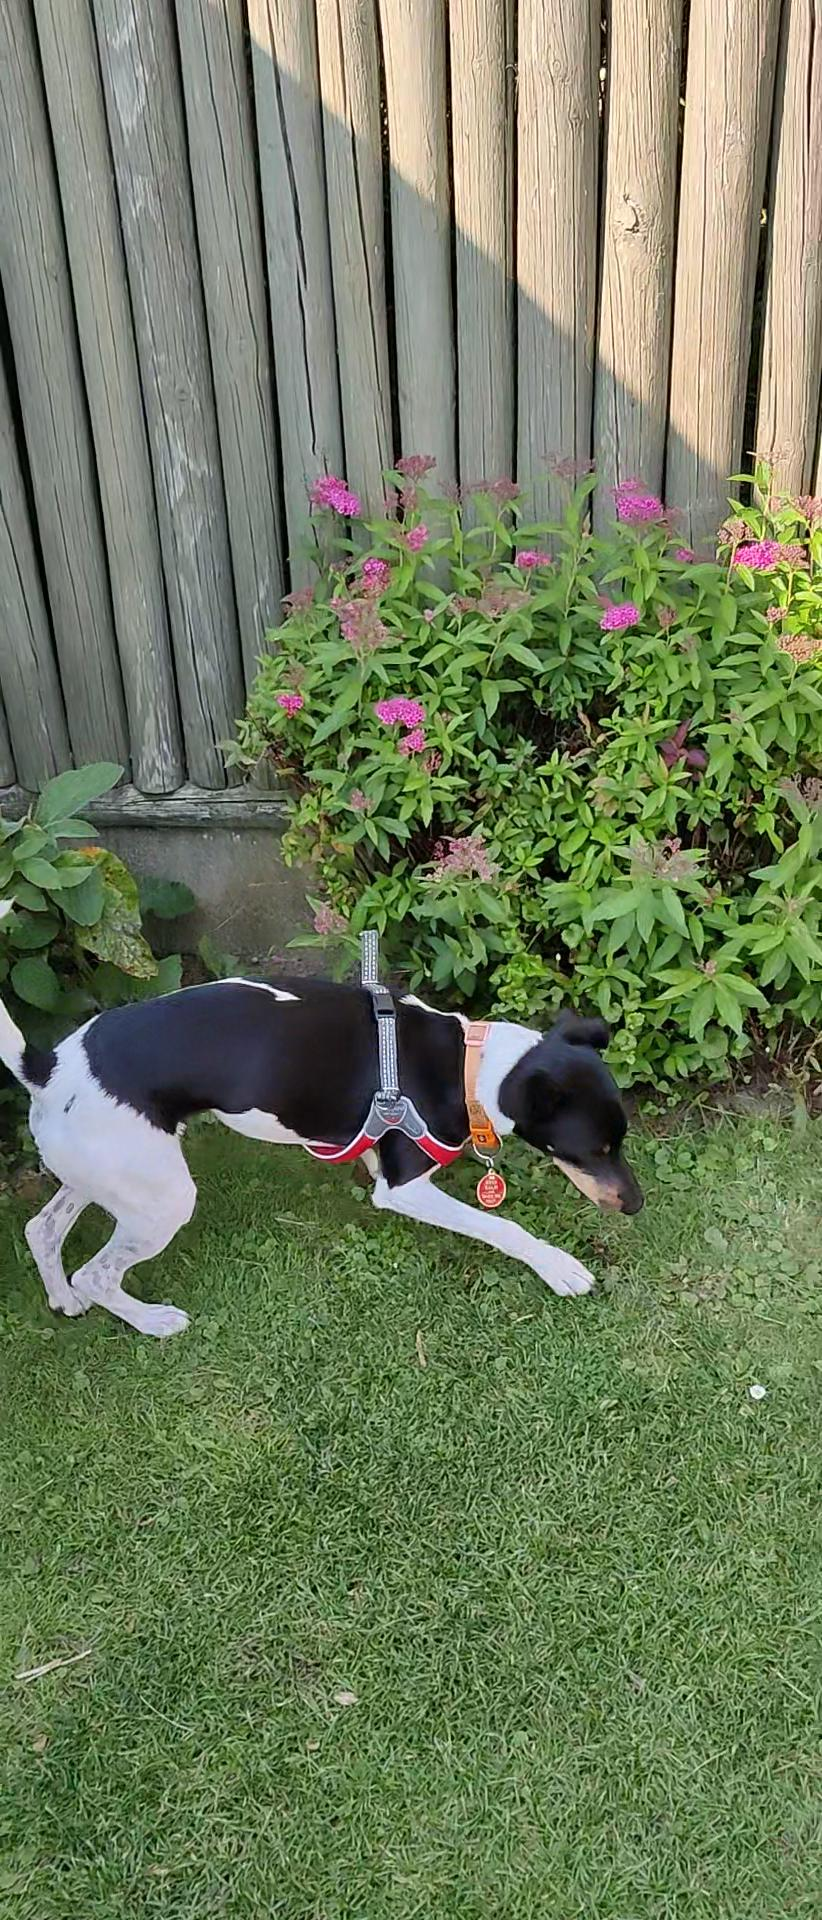Dog: (0, 876, 653, 1340)
